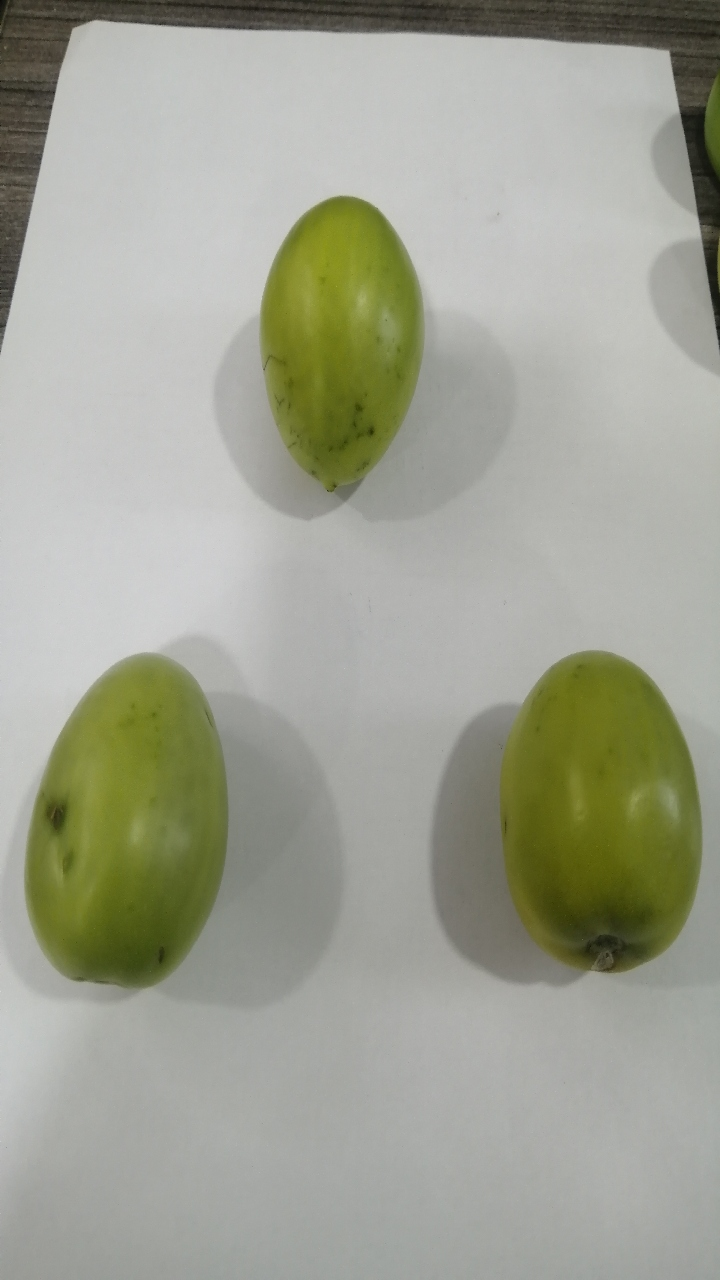tomateVerde: (4, 629, 248, 1022), (481, 625, 717, 1020), (240, 179, 444, 503)
